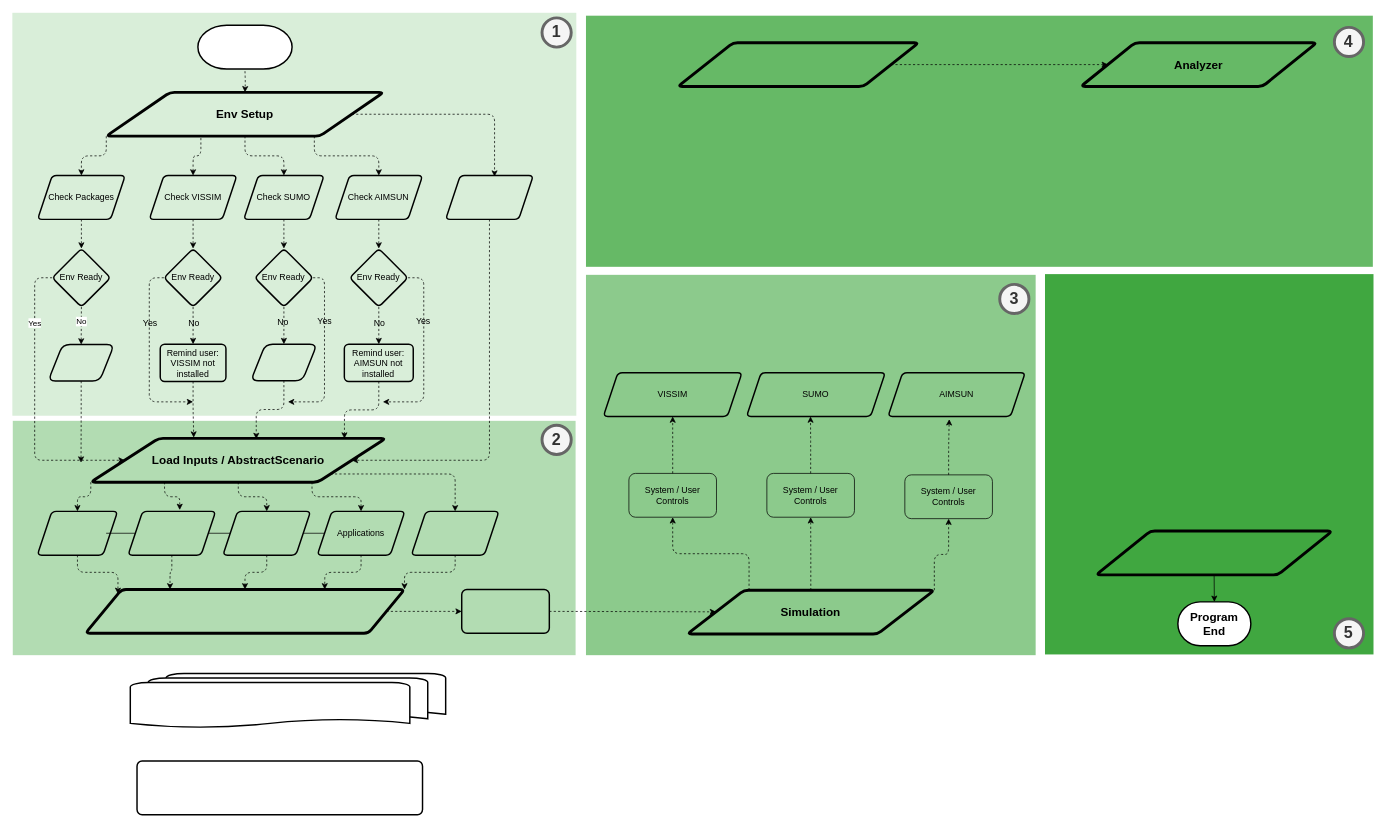
The diagram is 1386 pixels wide and 828 high, and some of its shapes have lost their labels. Each missing label, with the centre of its shape:
Calibration: (x=798, y=64)
Check ...: (x=489, y=197)
ConcreteScenarios Generation: (x=245, y=611)
Controller: (x=266, y=533)
Create Vir Env: (x=81, y=362)
Install SUMO: (x=283, y=362)
Networks: (x=77, y=533)
Public / Internal Config: (x=454, y=533)
RealTwin Initialization: (x=244, y=46)
Traffic: (x=171, y=533)
Uniform Configs: (x=505, y=611)
Visualization: (x=1213, y=552)
